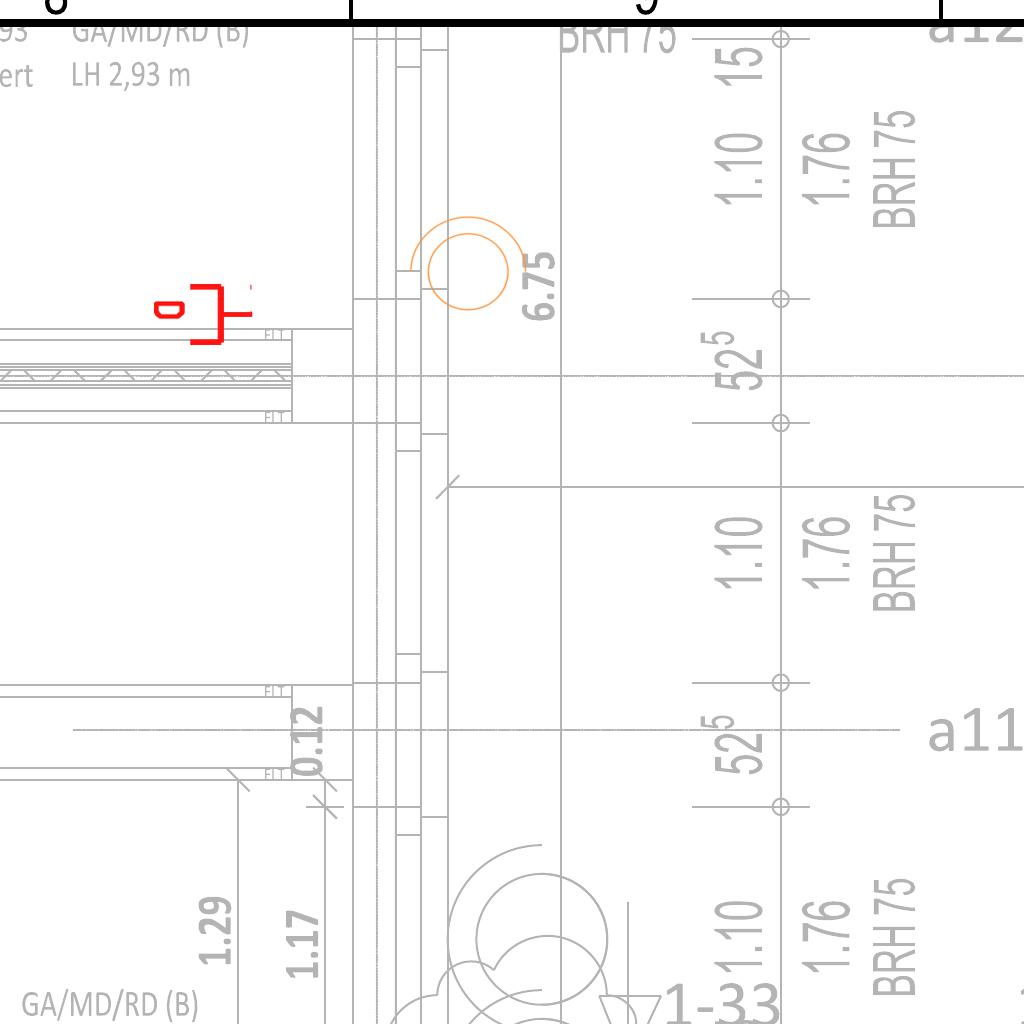Datenanschluss_einfach: (154, 280, 254, 349)
Scheinwerfer_fuer_Alarmbeleuchtung: (399, 211, 531, 323)
